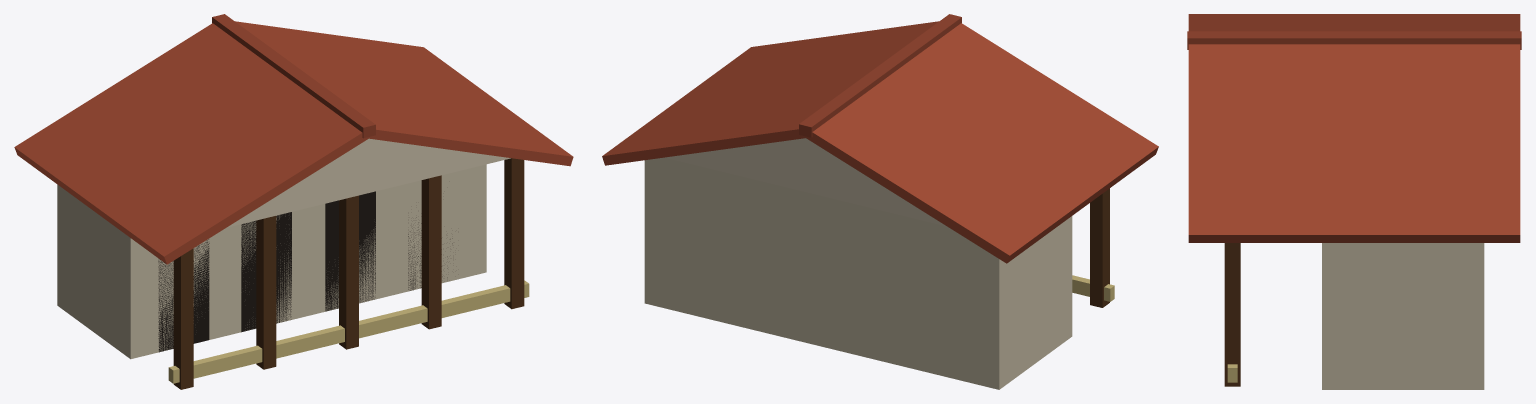
File: centaur_house_a.glb
The picture shows the model from 3 angles, left to right: view 1: azimuth 30°, elevation 25°; view 2: azimuth 150°, elevation 25°; view 3: azimuth 270°, elevation 25°; orthographic projection. The views are drawn at different scales.
Parts seen in each view (by area): view 1: centaur_house_a; view 2: centaur_house_a; view 3: centaur_house_a.
Part boxes in pixels (x1,y1,x2,y2): centaur_house_a: (14, 14, 573, 389); centaur_house_a: (602, 14, 1158, 389); centaur_house_a: (1187, 14, 1521, 389).
Size of the model in its own units: 3.22 by 1.76 by 2.06.
